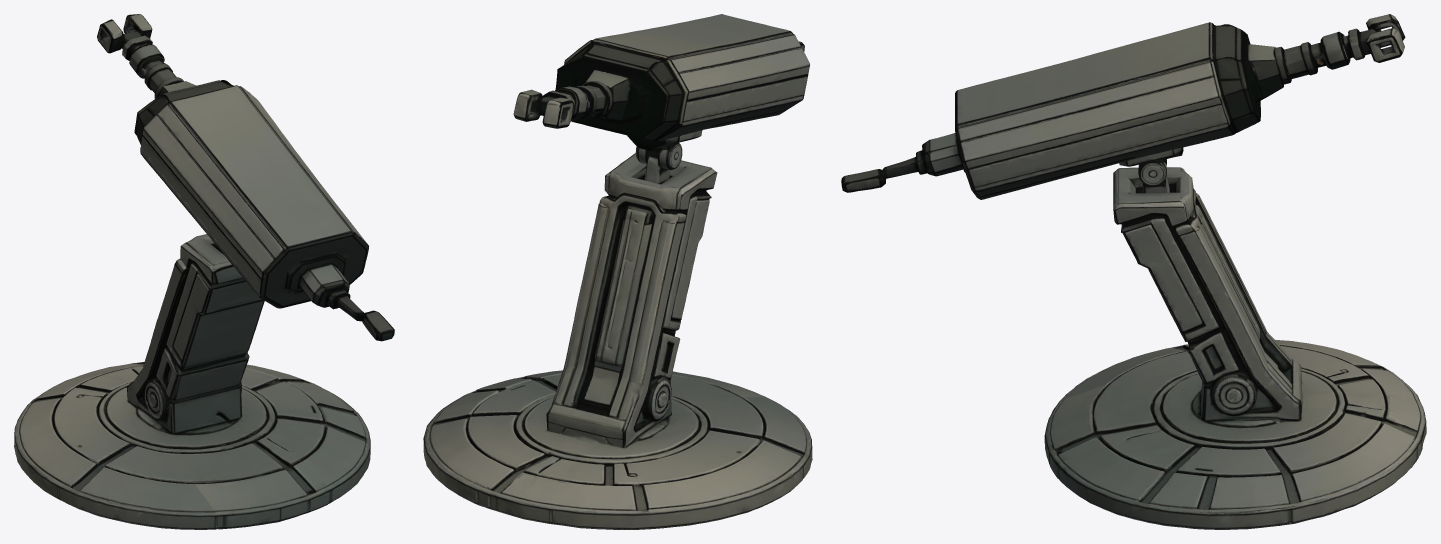
File: machinelaser.glb
The picture shows the model from 3 angles, left to right: view 1: azimuth 30°, elevation 25°; view 2: azimuth 150°, elevation 25°; view 3: azimuth 270°, elevation 25°; orthographic projection. The views are drawn at different scales.
Parts seen in each view (by area): view 1: tripo_node_11493140-ddea-4c62-9ba5-1408281a4c2d; view 2: tripo_node_11493140-ddea-4c62-9ba5-1408281a4c2d; view 3: tripo_node_11493140-ddea-4c62-9ba5-1408281a4c2d.
Part boxes in pixels (x1,y1,x2,y2): tripo_node_11493140-ddea-4c62-9ba5-1408281a4c2d: (14,14,394,529); tripo_node_11493140-ddea-4c62-9ba5-1408281a4c2d: (423,14,812,529); tripo_node_11493140-ddea-4c62-9ba5-1408281a4c2d: (841,14,1426,529).
Size of the model in its own units: 0.6734 by 0.8086 by 1.
1 material, 1 textured.
